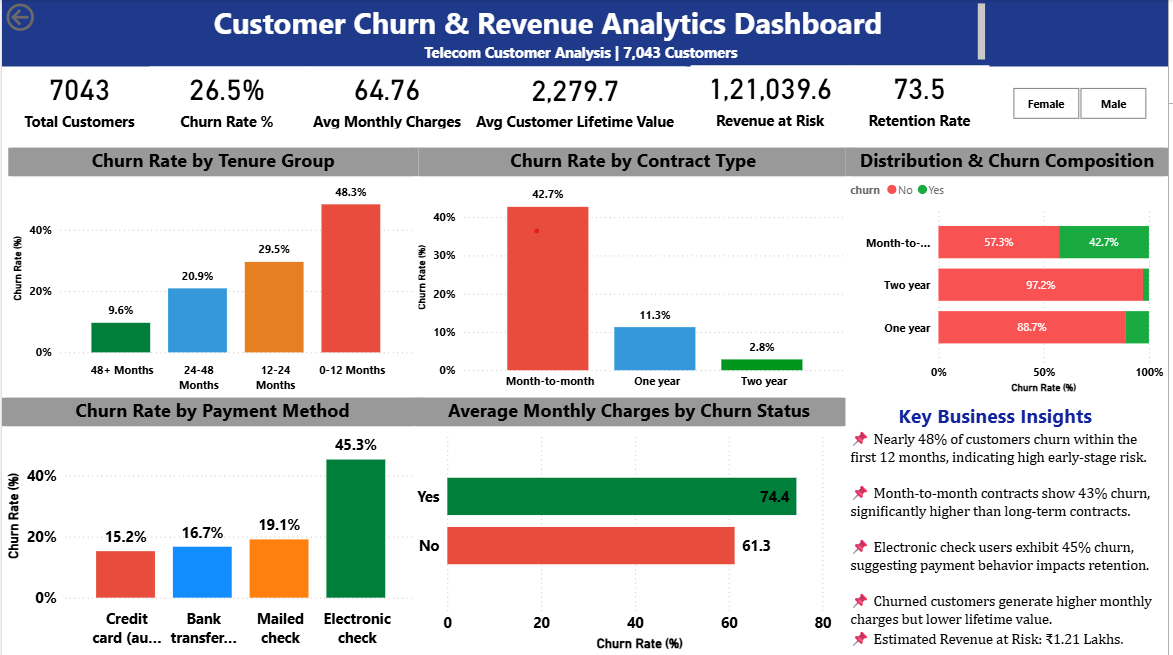

Layout of this report page (visuals, bound fields, positions):
{"tool":"powerbi","page":{"name":"Page 1","canvas":[1280,720],"ordinal":0},"visuals":[{"type":"card","title":"Total Customers","fields":{"Values":["cleaned_churn_data.Total Customers"]},"box":[0,74.1,175.6,78.2],"z":0},{"type":"shape","title":"Customer Churn & Revenue Analytics Dashboard","box":[0,0,1280.3,74.1],"z":1000},{"type":"textbox","box":[0,0,1084.1,72.7],"z":2000},{"type":"actionButton","box":[0,0,100,40],"z":3000},{"type":"columnChart","title":"Churn Rate by Contract Type","fields":{"Category":["cleaned_churn_data.contract"],"Y":["cleaned_churn_data.Churn Rate %"]},"box":[450.1,163.3,485.8,274.4],"z":4000},{"type":"clusteredColumnChart","title":"Churn Rate by Tenure Group","fields":{"Y":["cleaned_churn_data.Churn Rate %"],"Category":["cleaned_churn_data.Tenure Group"]},"box":[6.9,163.3,450.1,275.8],"z":5000},{"type":"clusteredColumnChart","title":"Churn Rate by Payment Method","fields":{"Y":["cleaned_churn_data.Churn Rate %"],"Category":["cleaned_churn_data.paymentmethod"]},"box":[0,437.7,462.4,282.7],"z":6000},{"type":"clusteredBarChart","title":"Average Monthly Charges by Churn Status","fields":{"Category":["cleaned_churn_data.churn"],"Y":["cleaned_churn_data.average_monthly_revenue"]},"box":[450.1,437.7,476.2,282.7],"z":7000},{"type":"slicer","fields":{"Values":["cleaned_churn_data.gender"]},"box":[1084.1,90.6,196.2,48],"z":8000},{"type":"card","title":"Total Customers","fields":{"Values":["cleaned_churn_data.Churn Rate %"]},"box":[161.9,74.1,175.6,78.2],"z":9000},{"type":"card","title":"Total Customers","fields":{"Values":["cleaned_churn_data.average_monthly_revenue"]},"box":[337.6,74.1,175.6,78.2],"z":10000},{"type":"card","title":"Total Customers","fields":{"Values":["cleaned_churn_data.Avg_total_revenue"]},"box":[513.2,74.1,237.4,79.6],"z":11000},{"type":"card","title":"Total Customers","fields":{"Values":["cleaned_churn_data.Revenue at Risk"]},"box":[756.1,72.7,179.8,79.6],"z":12000},{"type":"card","title":"Total Customers","fields":{"Values":["cleaned_churn_data.Retention Rate"]},"box":[935.9,72.7,148.2,79.6],"z":13000},{"type":"hundredPercentStackedBarChart","title":"Distribution & Churn Composition","fields":{"Category":["cleaned_churn_data.contract"],"Y":["CountNonNull(cleaned_churn_data.customerid)"],"Series":["cleaned_churn_data.churn"]},"box":[926.2,163.3,354,274.4],"z":14000},{"type":"textbox","box":[926.2,437.7,354,282.7],"z":15000}]}

Visuals, with their boxes in screenshot pixels (x1, y1, x2, y2), scaled from the page's 1280x720 canvas onto the 1173x655 screenshot:
"Total Customers" card: {"x1": 0, "y1": 67, "x2": 161, "y2": 139}
"Customer Churn & Revenue Analytics Dashboard" shape: {"x1": 0, "y1": 0, "x2": 1172, "y2": 67}
textbox: {"x1": 0, "y1": 0, "x2": 993, "y2": 66}
actionButton: {"x1": 0, "y1": 0, "x2": 92, "y2": 36}
"Churn Rate by Contract Type" columnChart: {"x1": 412, "y1": 149, "x2": 858, "y2": 398}
"Churn Rate by Tenure Group" clusteredColumnChart: {"x1": 6, "y1": 149, "x2": 419, "y2": 399}
"Churn Rate by Payment Method" clusteredColumnChart: {"x1": 0, "y1": 398, "x2": 424, "y2": 654}
"Average Monthly Charges by Churn Status" clusteredBarChart: {"x1": 412, "y1": 398, "x2": 849, "y2": 654}
slicer - cleaned_churn_data.gender: {"x1": 993, "y1": 82, "x2": 1172, "y2": 126}
"Total Customers" card: {"x1": 148, "y1": 67, "x2": 309, "y2": 139}
"Total Customers" card: {"x1": 309, "y1": 67, "x2": 470, "y2": 139}
"Total Customers" card: {"x1": 470, "y1": 67, "x2": 688, "y2": 140}
"Total Customers" card: {"x1": 693, "y1": 66, "x2": 858, "y2": 139}
"Total Customers" card: {"x1": 858, "y1": 66, "x2": 993, "y2": 139}
"Distribution & Churn Composition" hundredPercentStackedBarChart: {"x1": 849, "y1": 149, "x2": 1172, "y2": 398}
textbox: {"x1": 849, "y1": 398, "x2": 1172, "y2": 654}
